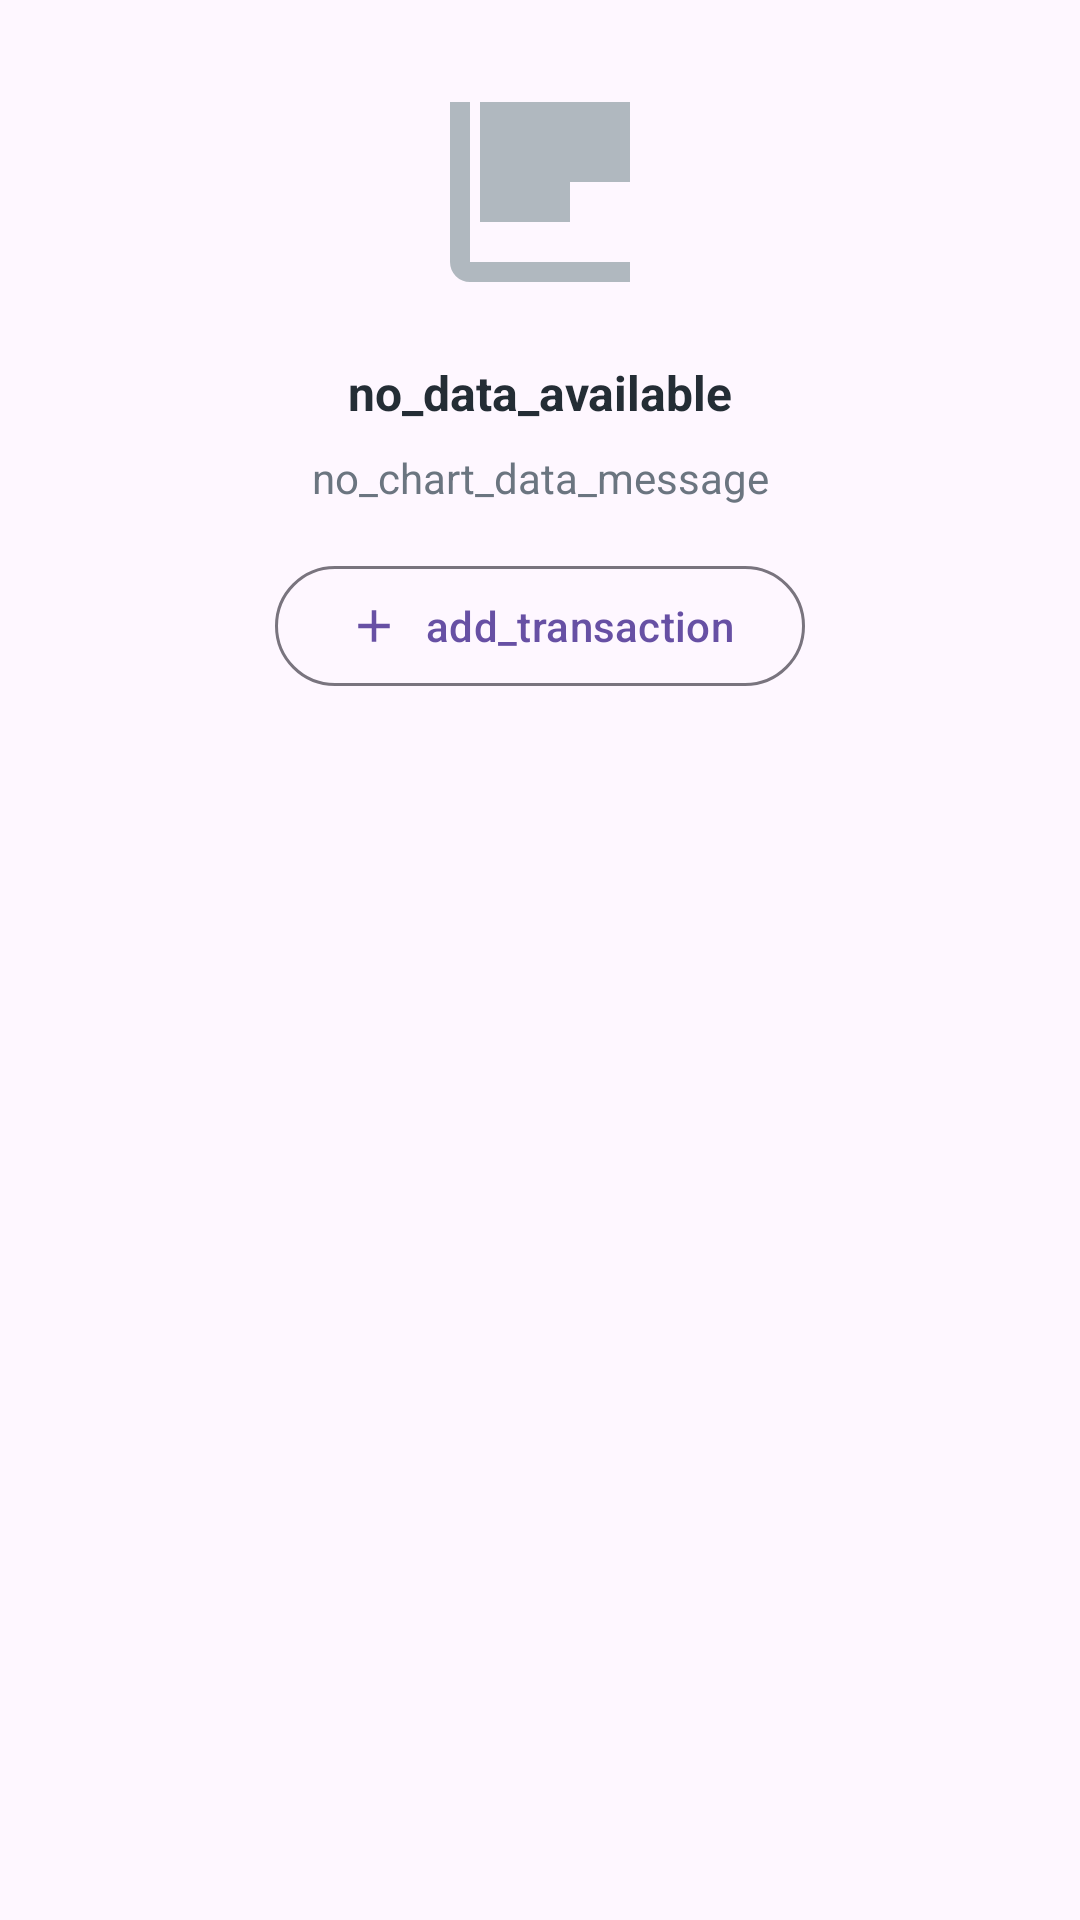

Named icons in this screenshot (1080px×1920px) and their centers, (x=x, y=y):
chart empty: (x=540, y=192)
